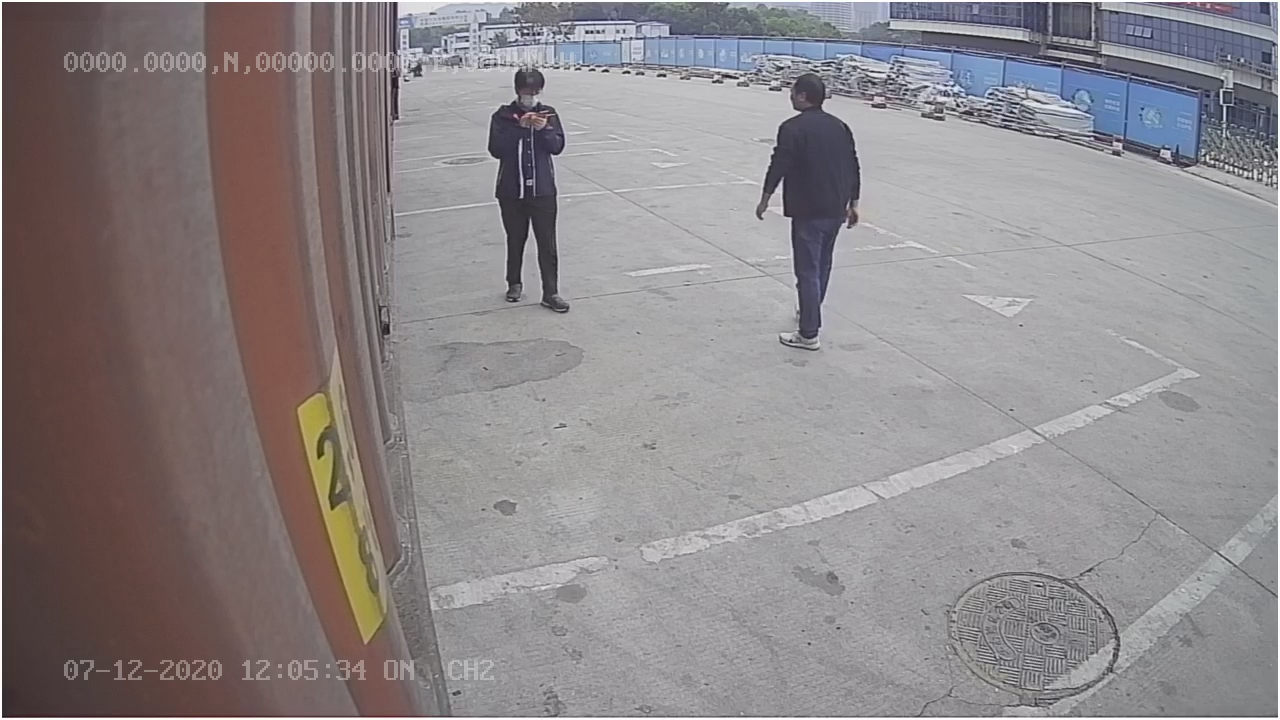person: (749, 64, 860, 358), (481, 65, 581, 317)
